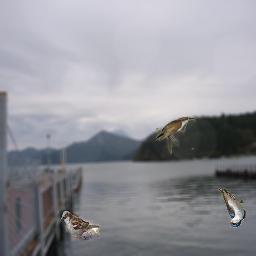Cuckoo: (156, 117, 196, 155)
Sparrow: (60, 210, 100, 241)
Swallow: (218, 188, 246, 228)
